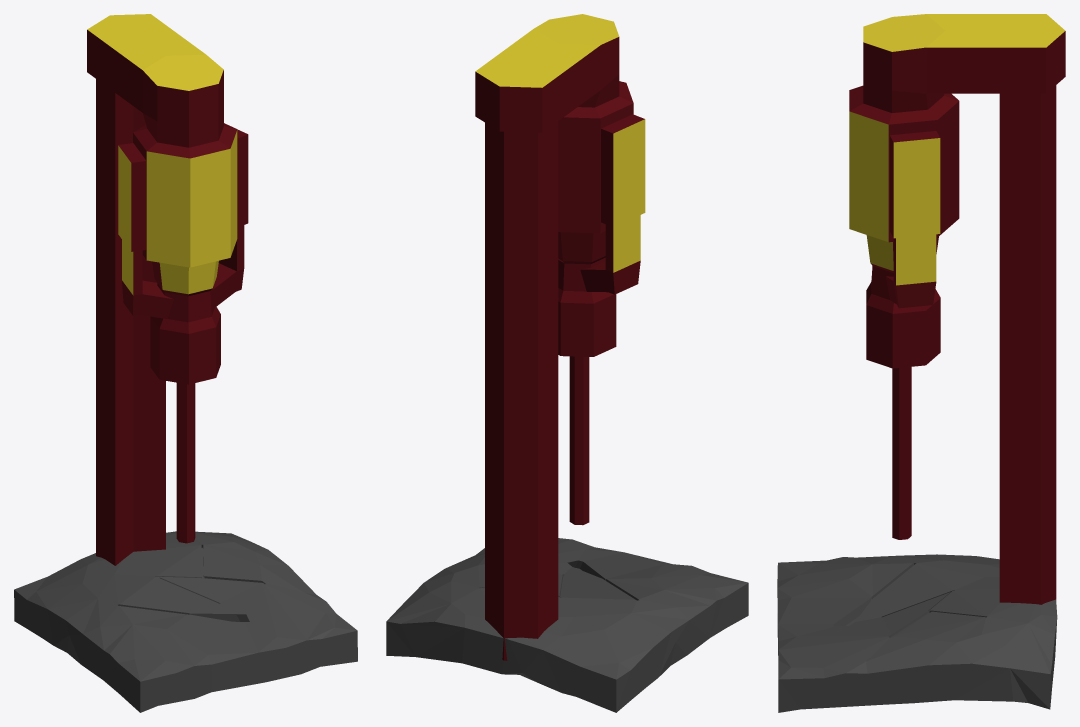
File: StoneGenLevel5.fbx
3 renders of one model, left to right at view 1: azimuth 30°, elevation 25°; view 2: azimuth 150°, elevation 25°; view 3: azimuth 270°, elevation 25°, orthographic. The views are drawn at different scales.
Visible parts, largest first — view 1: Cylinder, Cube.005; view 2: Cylinder, Cube.005; view 3: Cylinder, Cube.005.
Part boxes in pixels (x1,y1,x2,y2): Cylinder: [87, 14, 248, 565]; Cube.005: [14, 531, 357, 712]; Cylinder: [475, 14, 645, 660]; Cube.005: [386, 538, 748, 712]; Cylinder: [849, 14, 1065, 604]; Cube.005: [777, 554, 1057, 712].
Bounding box in the file's own units: 1.37 × 3.45 × 1.45.
